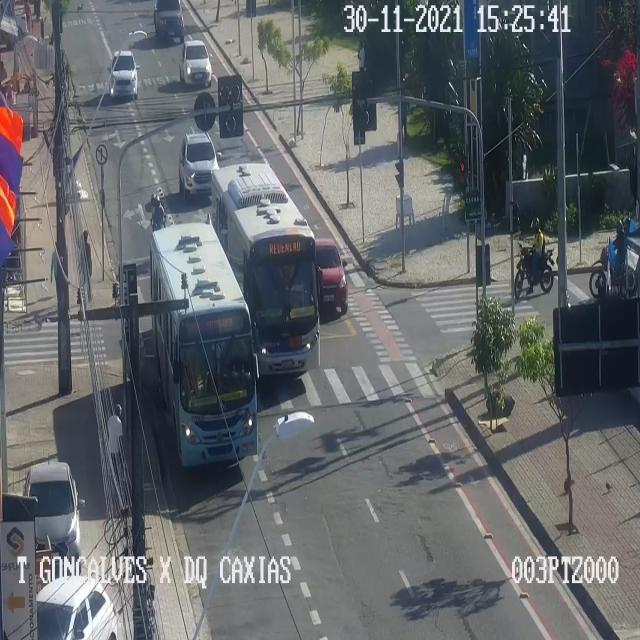Bus: (150, 222, 258, 467), (212, 164, 320, 376)
Car: (24, 458, 85, 564), (37, 578, 119, 639), (313, 236, 348, 314), (178, 130, 218, 197), (106, 50, 140, 100), (180, 41, 210, 86), (154, 1, 186, 41)
Motorcycle: (589, 217, 639, 298), (512, 214, 554, 297), (146, 190, 170, 247)
